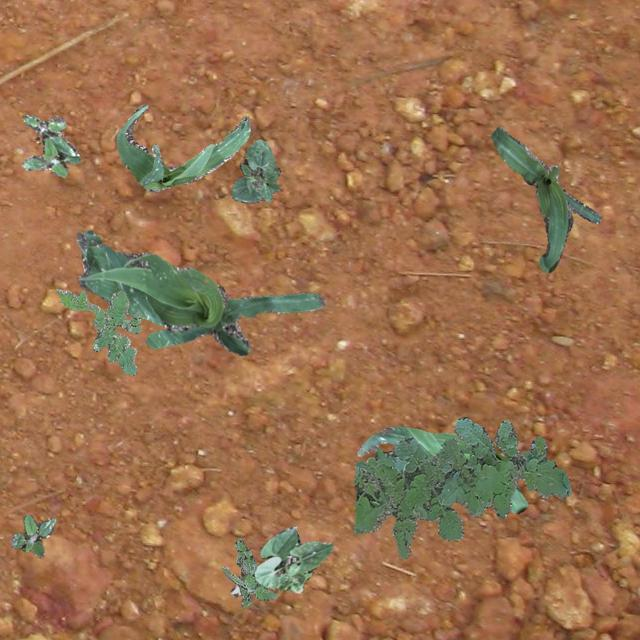crop: (75, 230, 322, 354), (490, 126, 600, 272), (356, 424, 526, 512), (116, 104, 250, 192), (230, 526, 332, 596), (230, 138, 280, 202)
weed: (352, 416, 570, 558), (56, 288, 140, 374), (220, 538, 276, 606), (20, 115, 80, 177), (10, 514, 54, 556)
